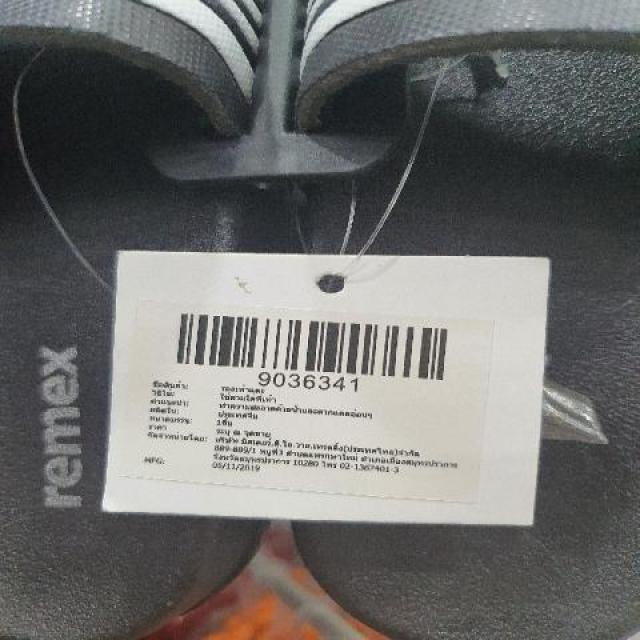Barcode: (161, 305, 472, 396)
